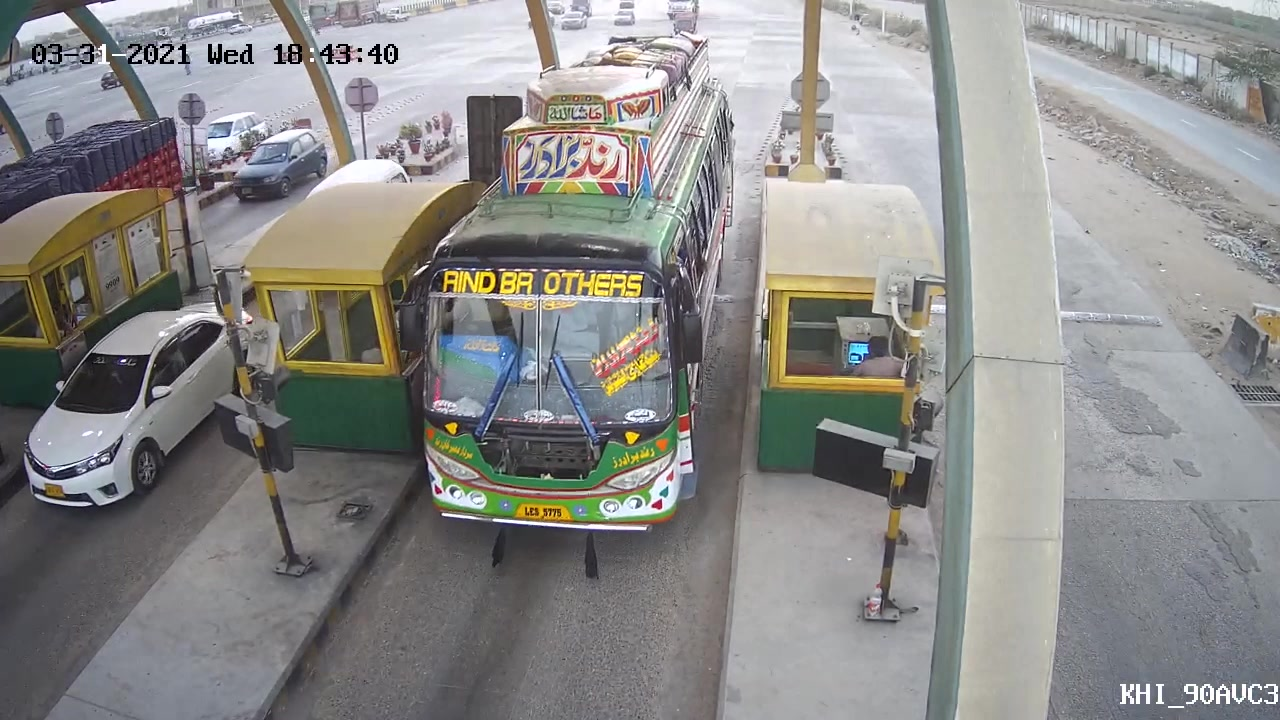F4: (392, 31, 740, 549)
